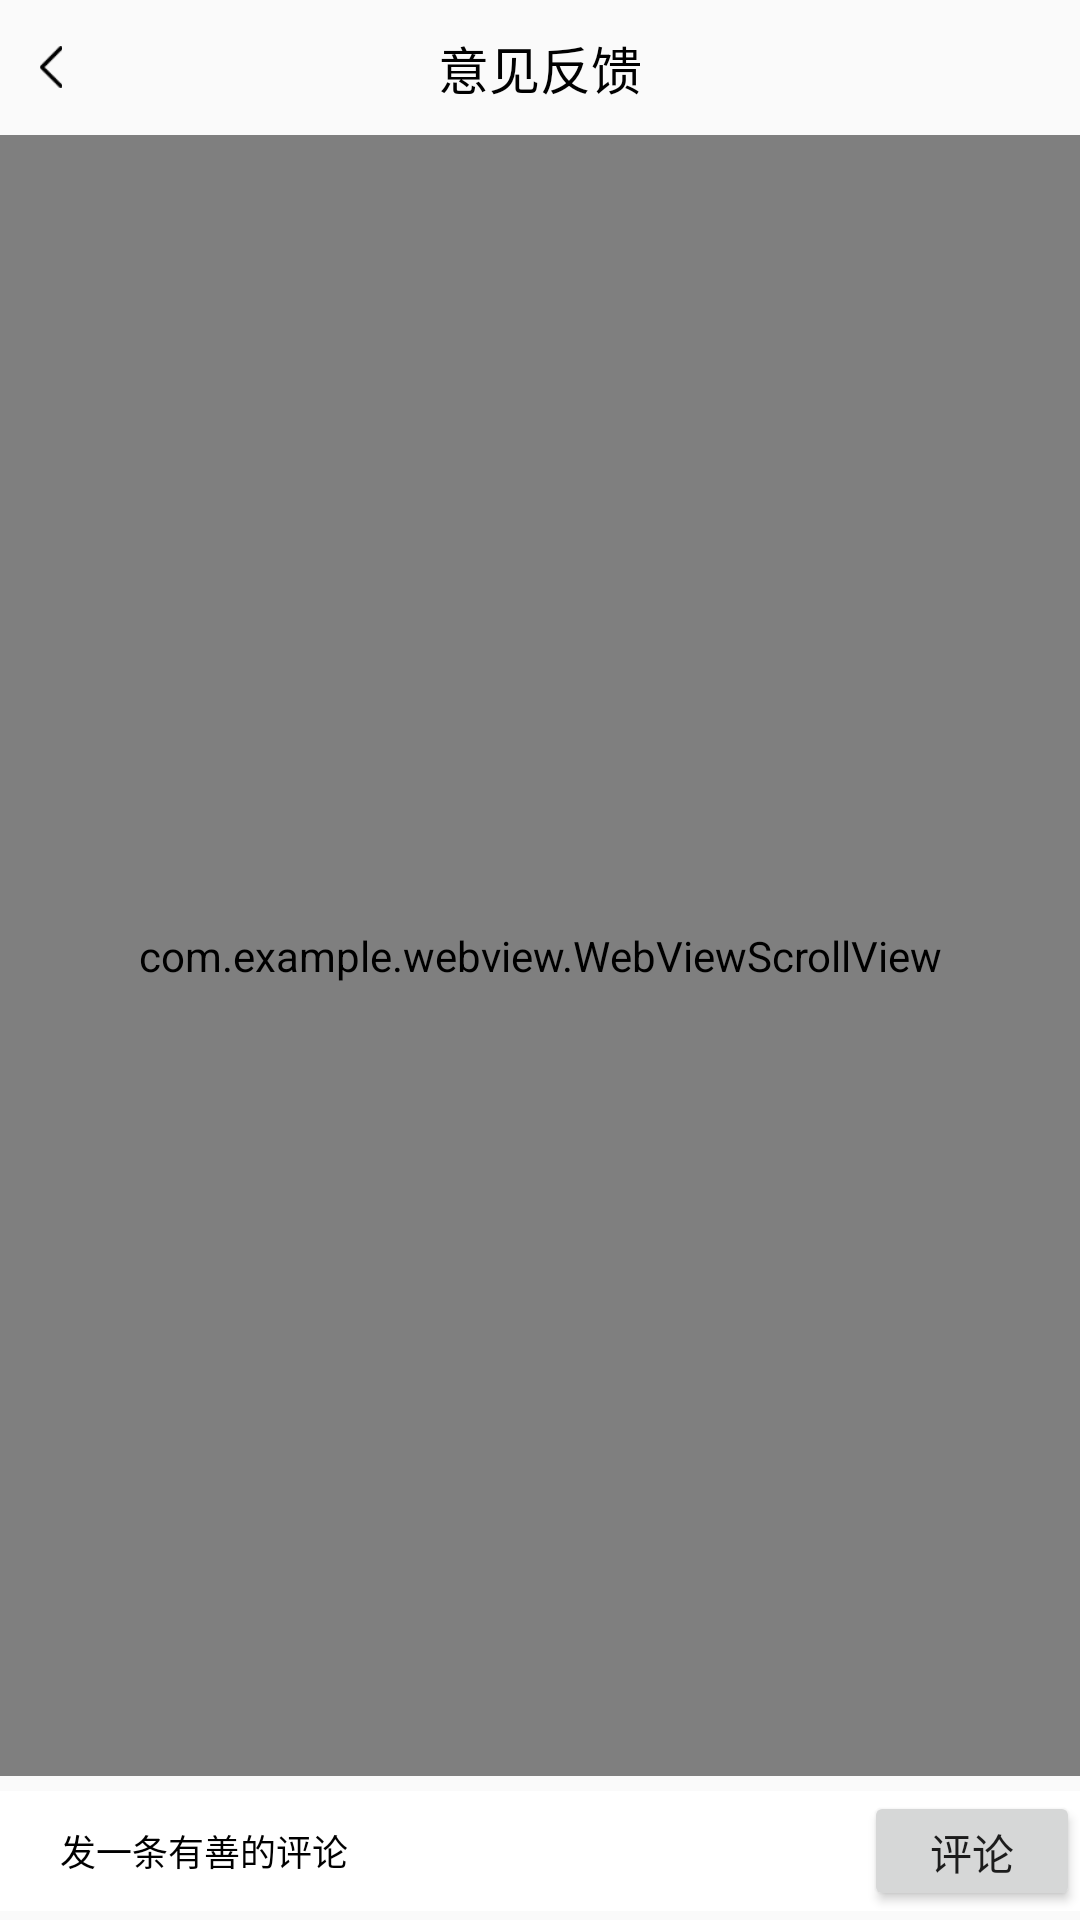

Where to tap for icons on this 1080*1920 app screen, as (x=x, y=y):
back: (x=51, y=67)
